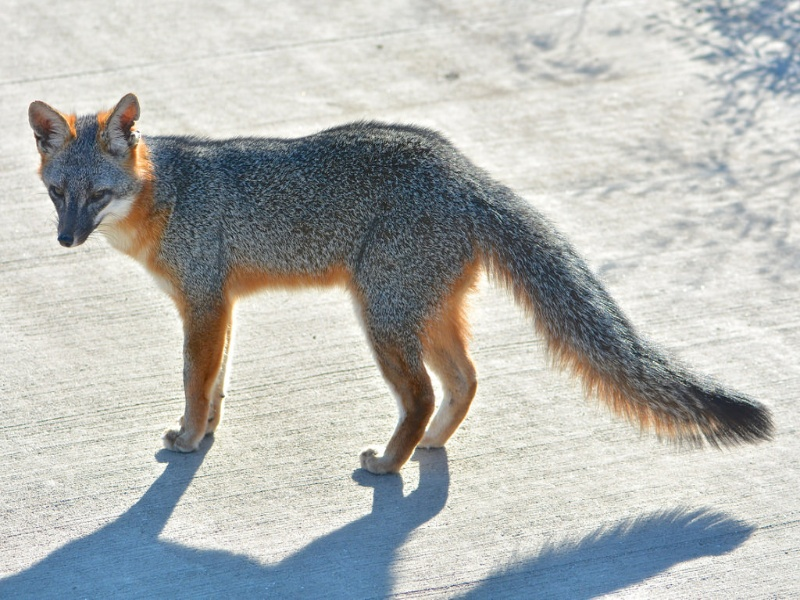fox: (21, 96, 779, 508)
